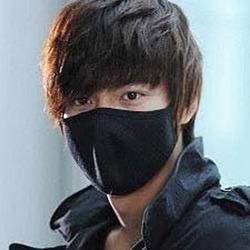face_mask: (60, 44, 172, 187)
